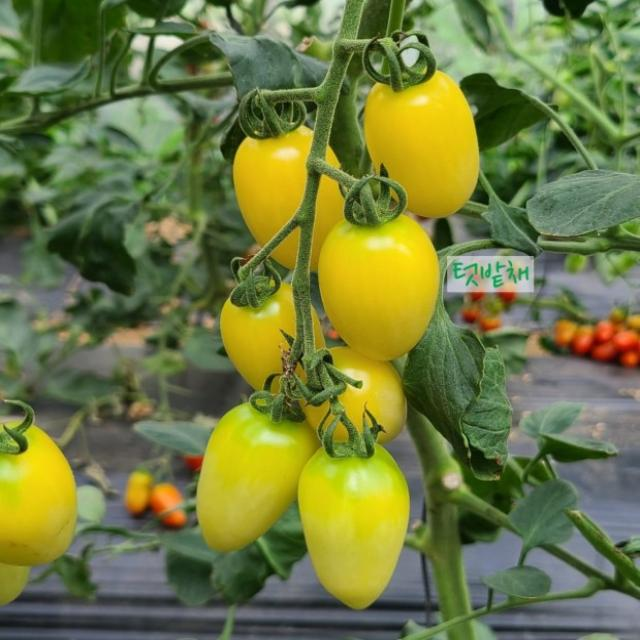level 2: (253, 425, 431, 620), (167, 385, 320, 546)
level 3: (206, 88, 355, 274), (305, 200, 453, 376), (350, 63, 502, 230), (271, 328, 434, 450), (201, 266, 336, 412)
